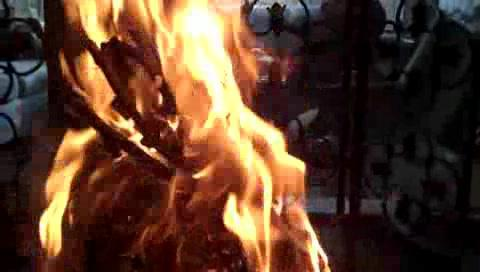fire: (37, 2, 290, 257)
